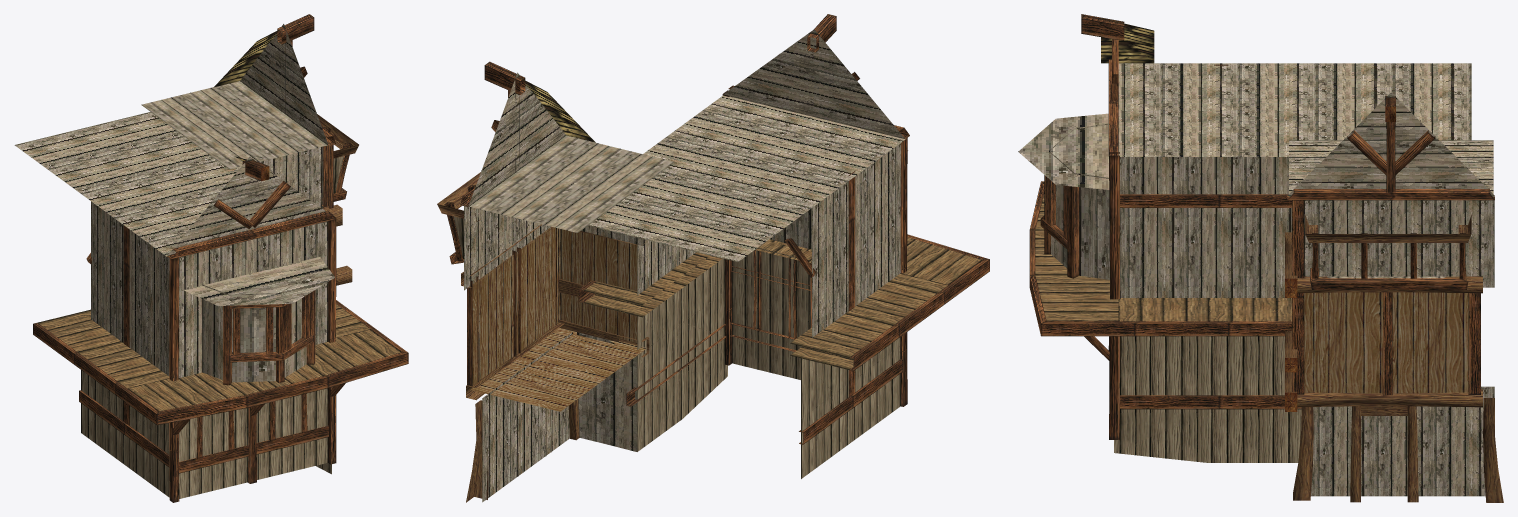
File: LAKETOWN_EXTERIOR_PS_LT_CORNERHOUSE99__GX.fbx
The picture shows the model from 3 angles, left to right: view 1: azimuth 30°, elevation 25°; view 2: azimuth 150°, elevation 25°; view 3: azimuth 270°, elevation 25°; orthographic projection. The views are drawn at different scales.
Visible parts, largest first — view 1: LAKETOWN_EXTERIOR_PS_LT_CORNERHOUSE99__GX; view 2: LAKETOWN_EXTERIOR_PS_LT_CORNERHOUSE99__GX; view 3: LAKETOWN_EXTERIOR_PS_LT_CORNERHOUSE99__GX.
Part boxes in pixels (x1,y1,x2,y2): LAKETOWN_EXTERIOR_PS_LT_CORNERHOUSE99__GX: (14, 14, 408, 502); LAKETOWN_EXTERIOR_PS_LT_CORNERHOUSE99__GX: (437, 14, 989, 502); LAKETOWN_EXTERIOR_PS_LT_CORNERHOUSE99__GX: (1018, 14, 1503, 502).
Size of the model in its own units: 103223 by 111033 by 118339.
Materials: 9 (9 with a texture image).
